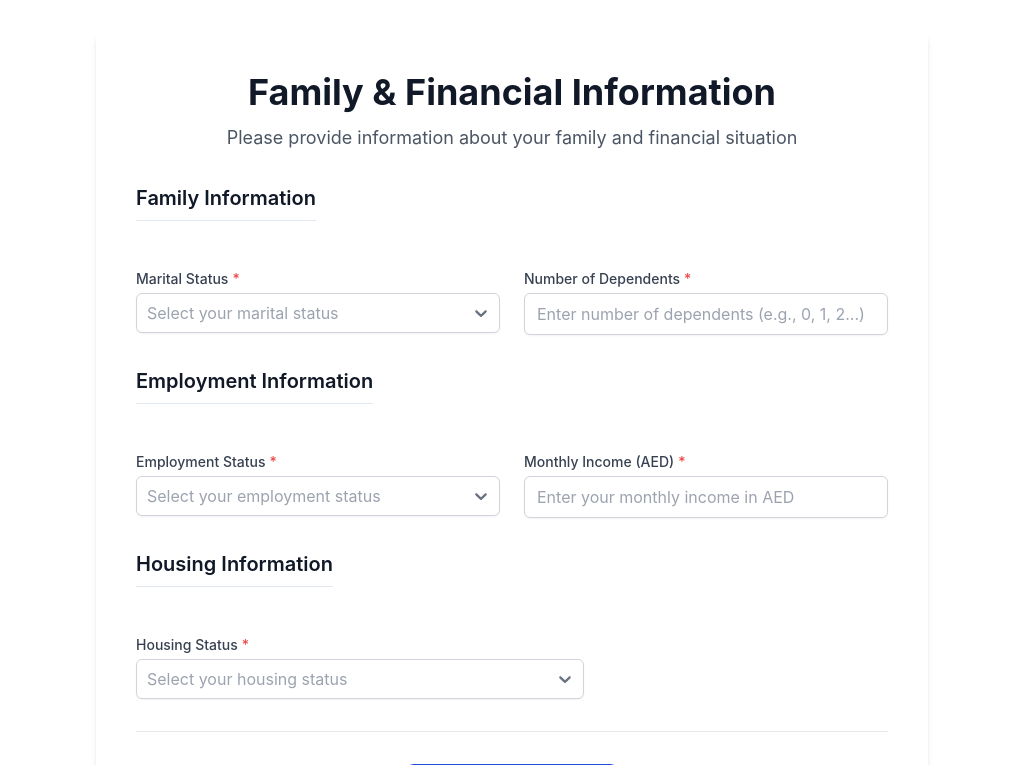
Test: FamilyFinancialInfo Component › handles marital status selection
The width and height of the screenshot is (1036, 765).
Click the dropdown labelled "Marital Status*": (188, 278) [136, 270, 240, 287]
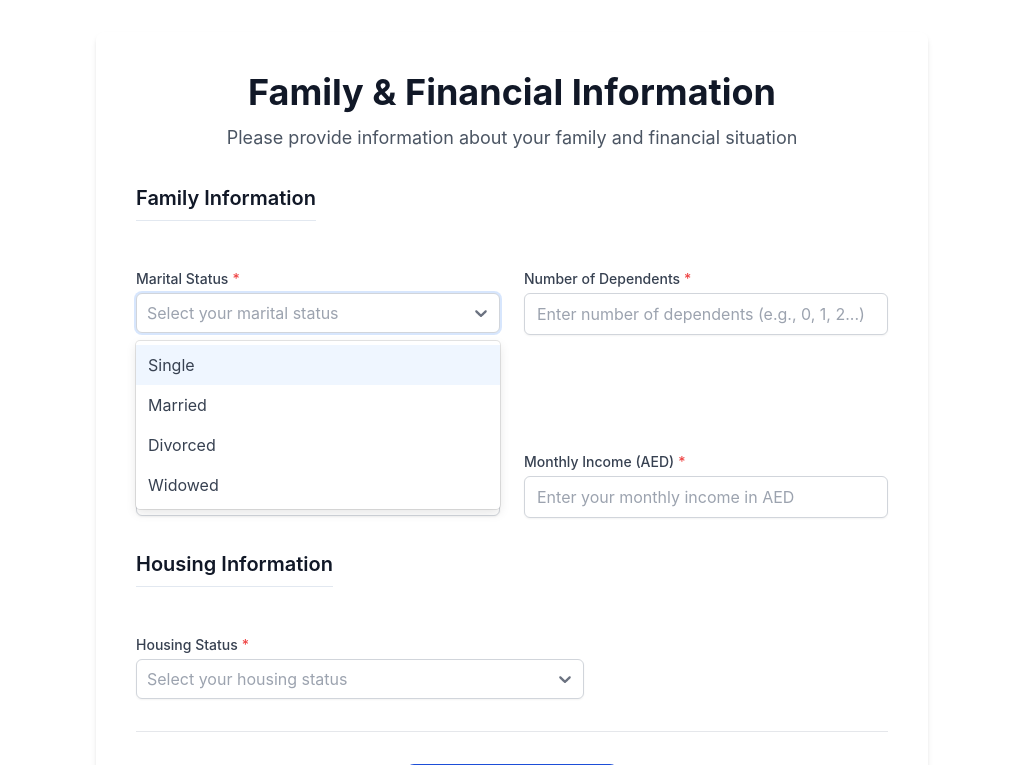
Now the option "Single" is shown, box [136, 345, 500, 385]
Now the option "Married" is shown
Now the option "Divorced" is shown, box [136, 425, 500, 465]
Click the option "Married": (177, 405) [136, 385, 500, 425]
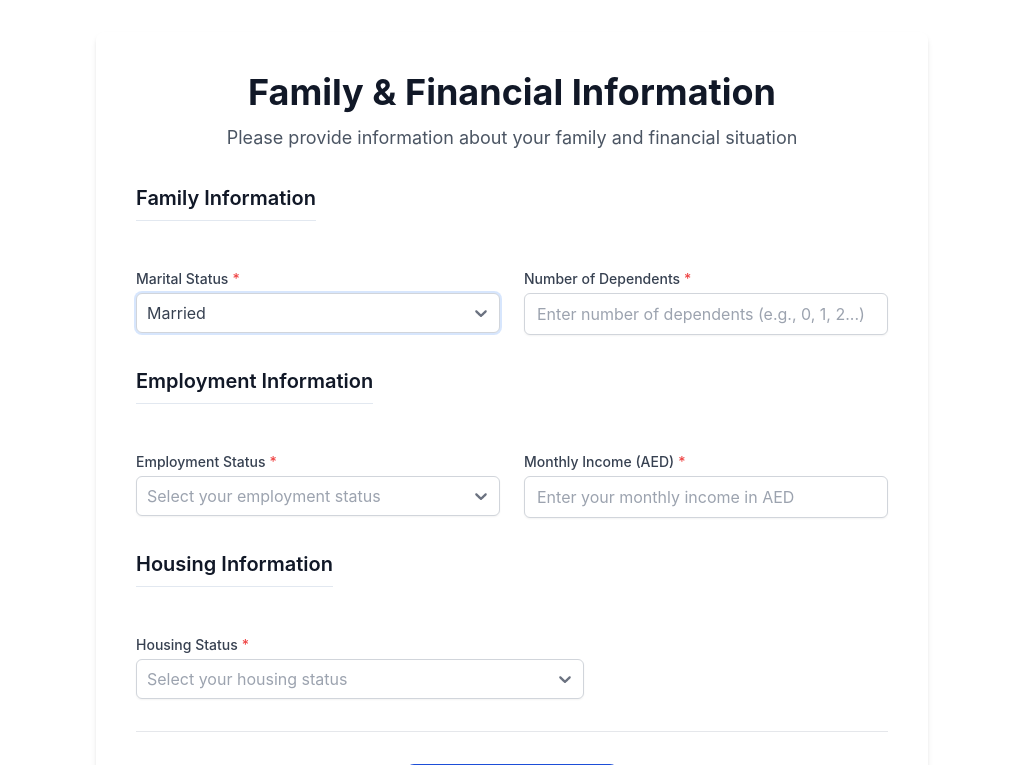
Now the text "Married" is shown, box [147, 303, 206, 323]
